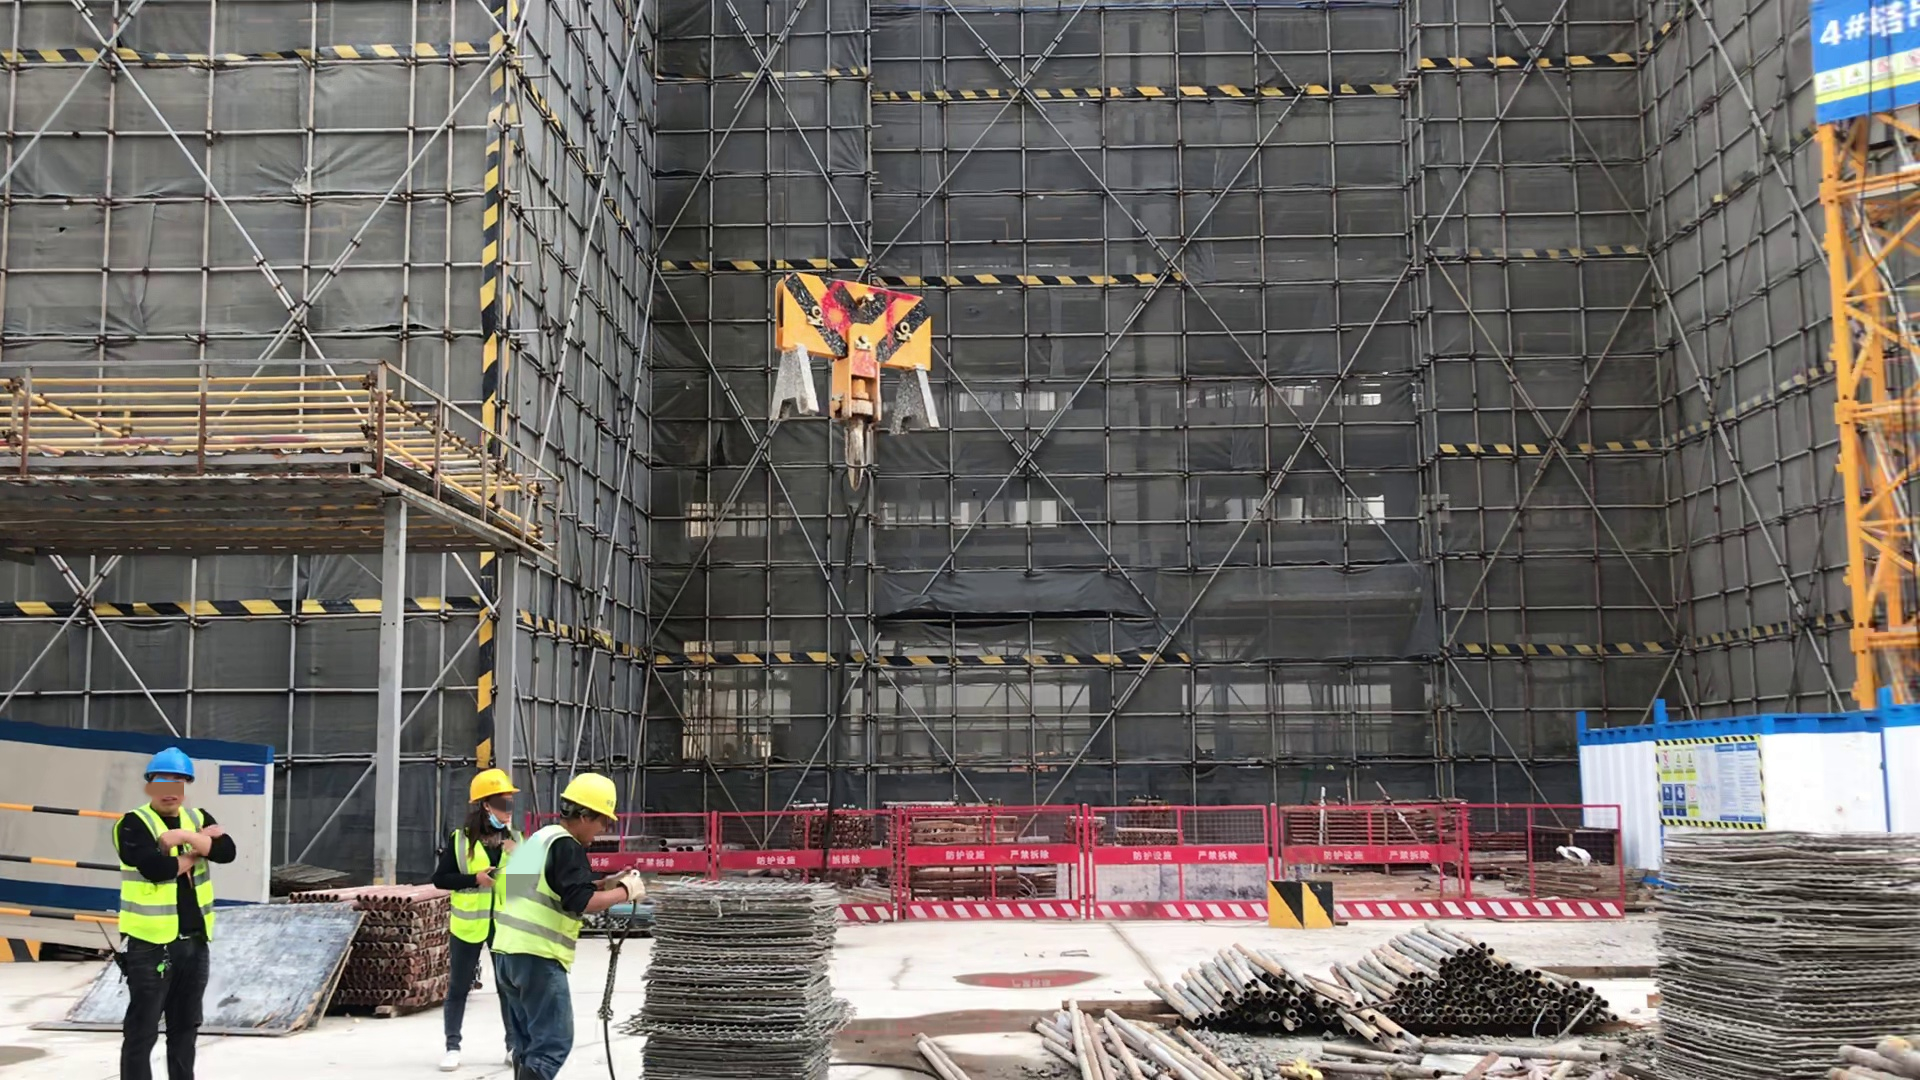fence: (845, 801, 1259, 926), (1330, 798, 1625, 919), (4, 787, 115, 934), (645, 793, 833, 876)
helmet: (558, 775, 619, 823), (140, 748, 200, 783), (467, 772, 521, 803)
hook: (762, 278, 943, 487)
person: (492, 774, 652, 1080), (112, 746, 239, 1080), (435, 772, 505, 1073)
scaffold: (1355, 915, 1628, 1046), (1139, 941, 1345, 1045), (370, 882, 451, 1017)
slogan: (1819, 1, 1916, 119), (1656, 739, 1766, 828)
vest: (116, 805, 218, 947), (493, 824, 580, 975), (449, 824, 497, 945)
